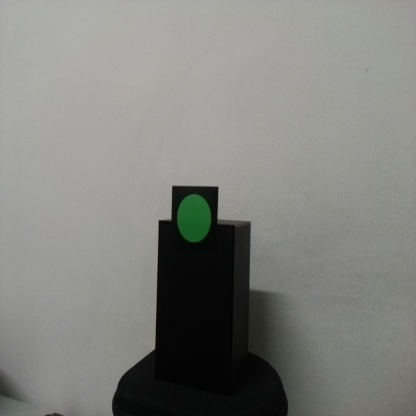id_5: (171, 186, 219, 259)
